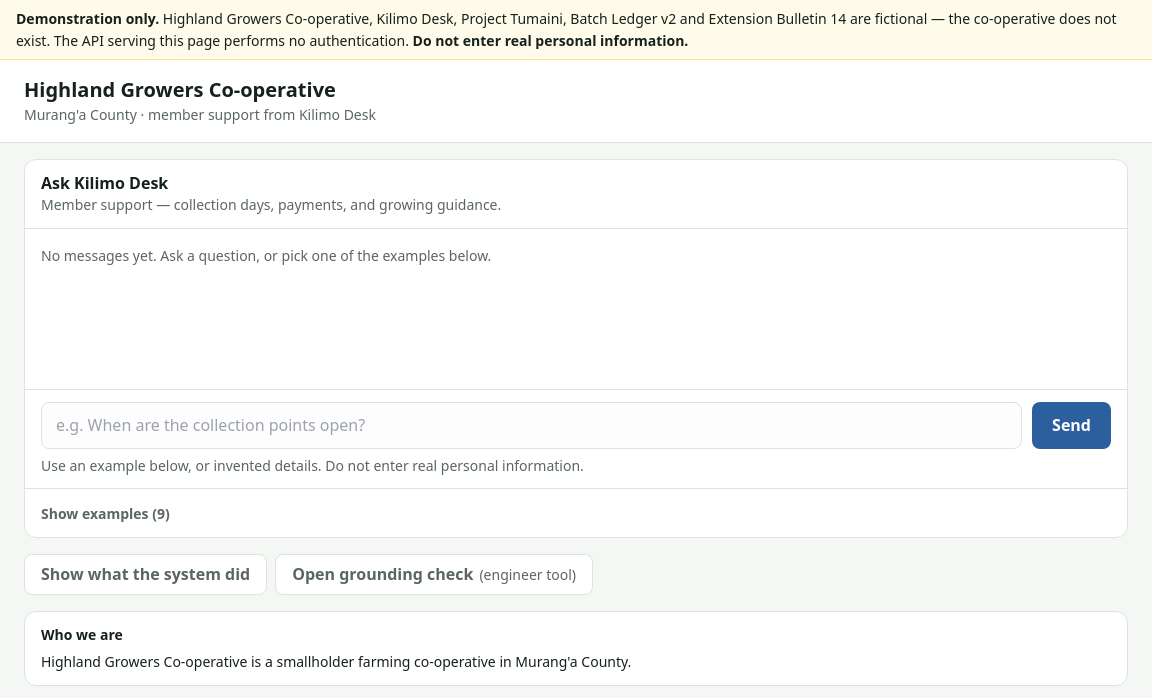
Test case: one request, two views › derives both views from a single response
Expected: the heading "Ask Kilimo Desk" is shown, [41,172,168,194]
Type "how much fungicide?" into the field named "Your message" at (532, 425), box [41,402,1022,449]
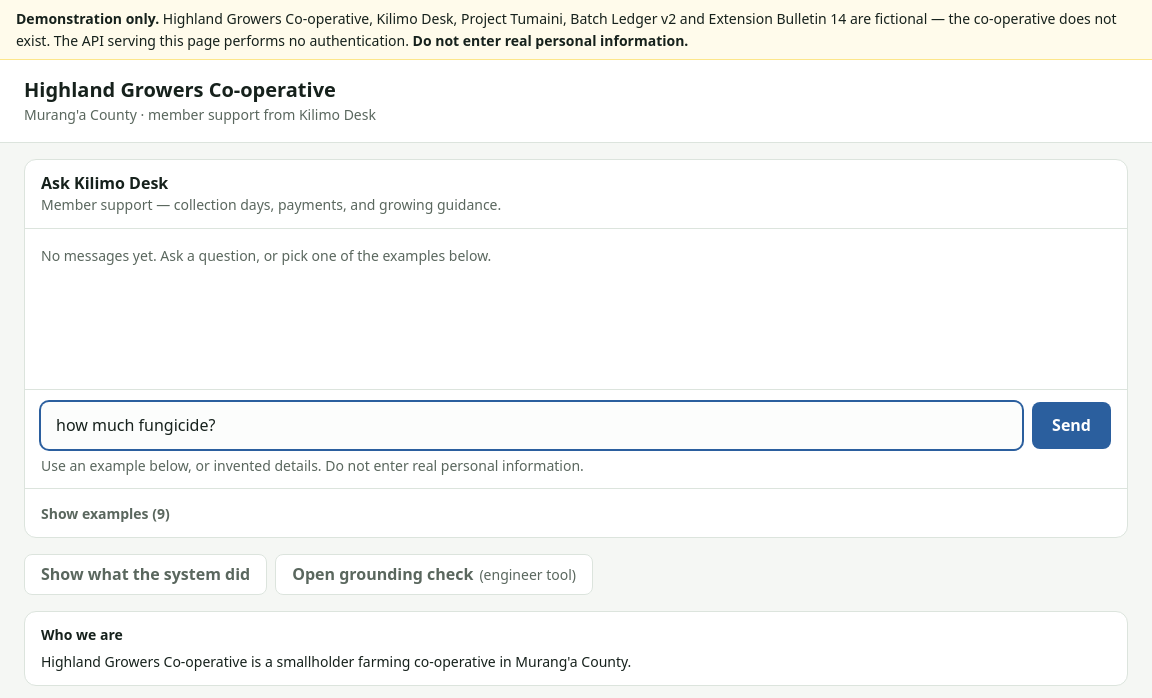
Click the button "Send" at (1072, 425), box [1032,402,1111,449]
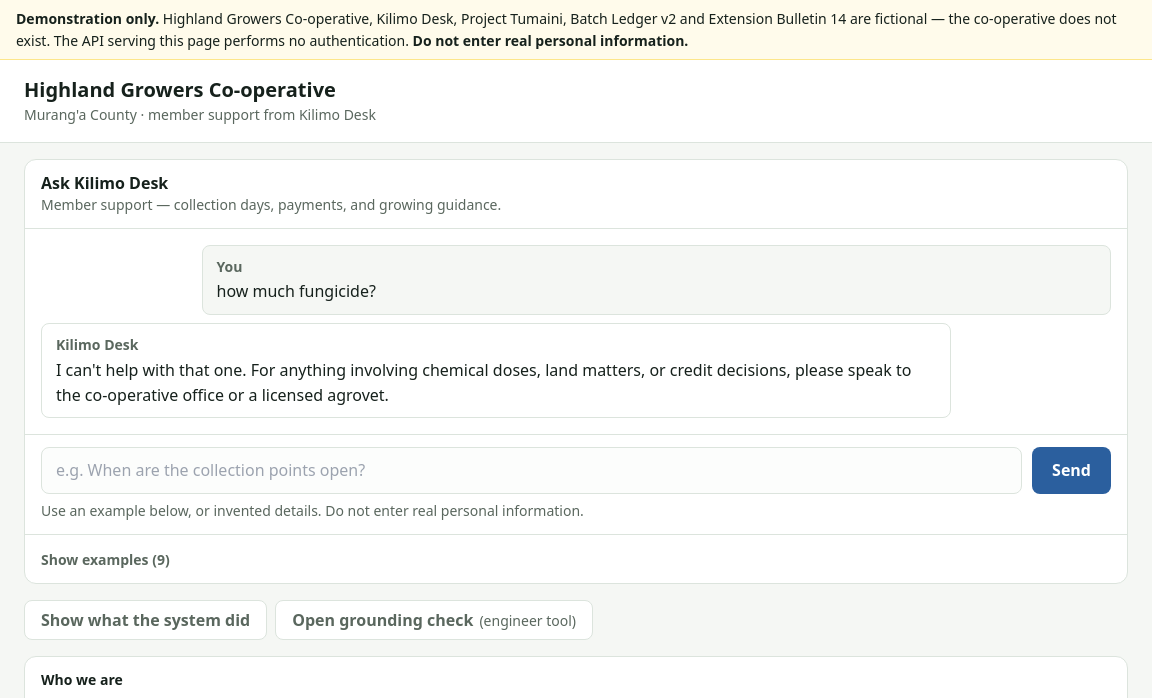
Expected: the text "Agrochemical Dosing" is not shown
Expected: the text "I can't help with that one. For anything involving chemical doses, land matters, or credit decisions, please speak to th" is shown, [56,359,916,406]
Click the button "Show what the system did" at (146, 620), box [24,600,267,640]
(page scrolled)
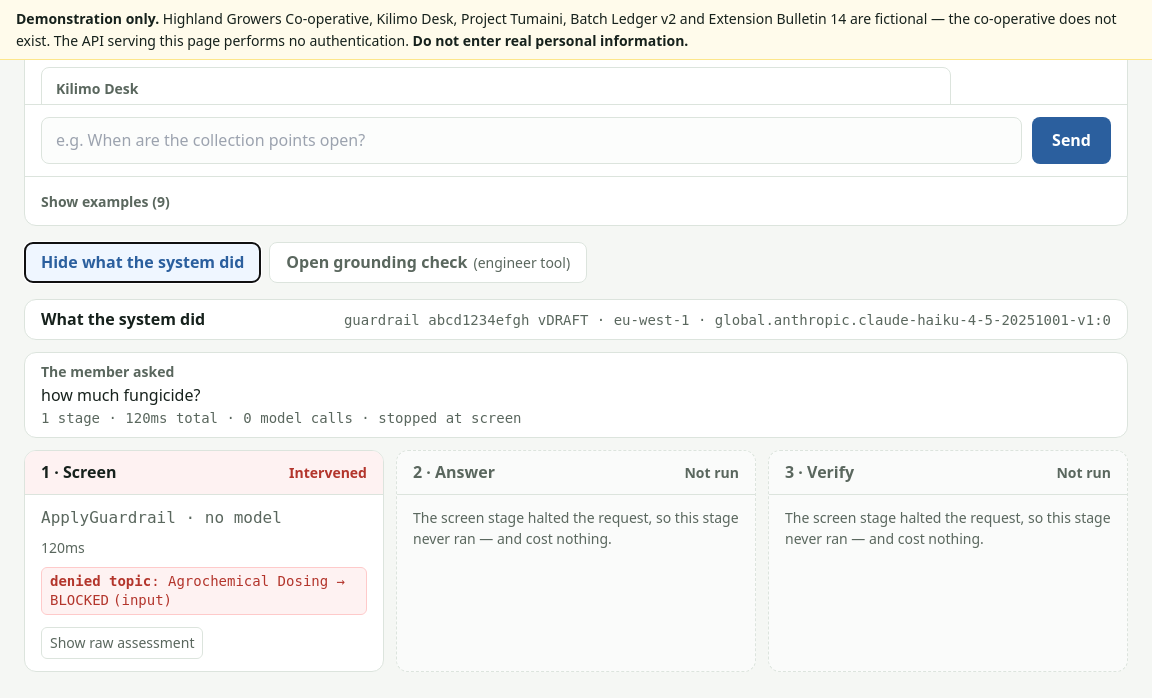
Expected: the text "denied topic: Agrochemical Dosing → BLOCKED(input)" is shown, [41,567,367,615]
Expected: the text "Not run" is shown 2 times, [684,462,739,484]; [1056,462,1111,484]
